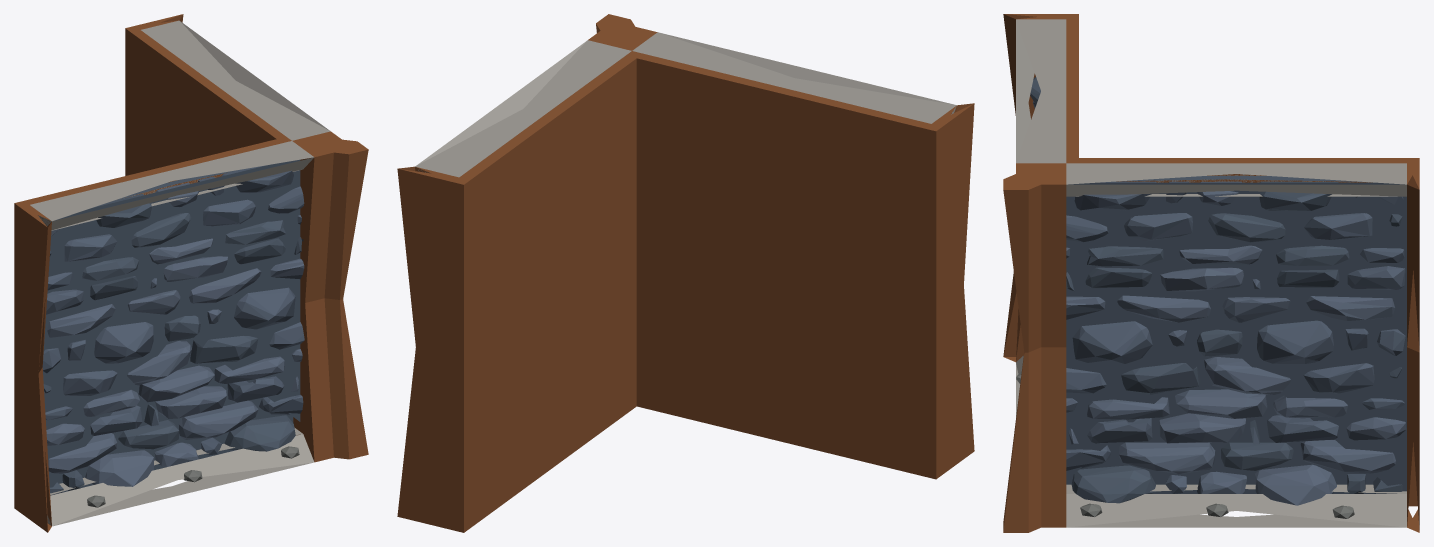
File: Wall_corner_90.glb
3 renders of one model, left to right at view 1: azimuth 30°, elevation 25°; view 2: azimuth 150°, elevation 25°; view 3: azimuth 270°, elevation 25°, orthographic. The views are drawn at different scales.
Visible parts, largest first — view 1: WallCorner90; view 2: WallCorner90; view 3: WallCorner90.
Part boxes in pixels (left/top/right/bottom): WallCorner90: left=14, top=14, right=368, bottom=532; WallCorner90: left=397, top=14, right=974, bottom=532; WallCorner90: left=1003, top=14, right=1419, bottom=532.
Size of the model in its own units: 6.6 by 6 by 6.6.
